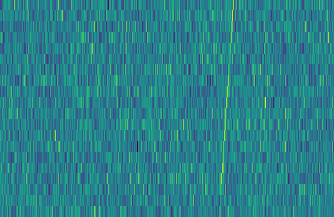signal: (215, 0, 239, 217)
